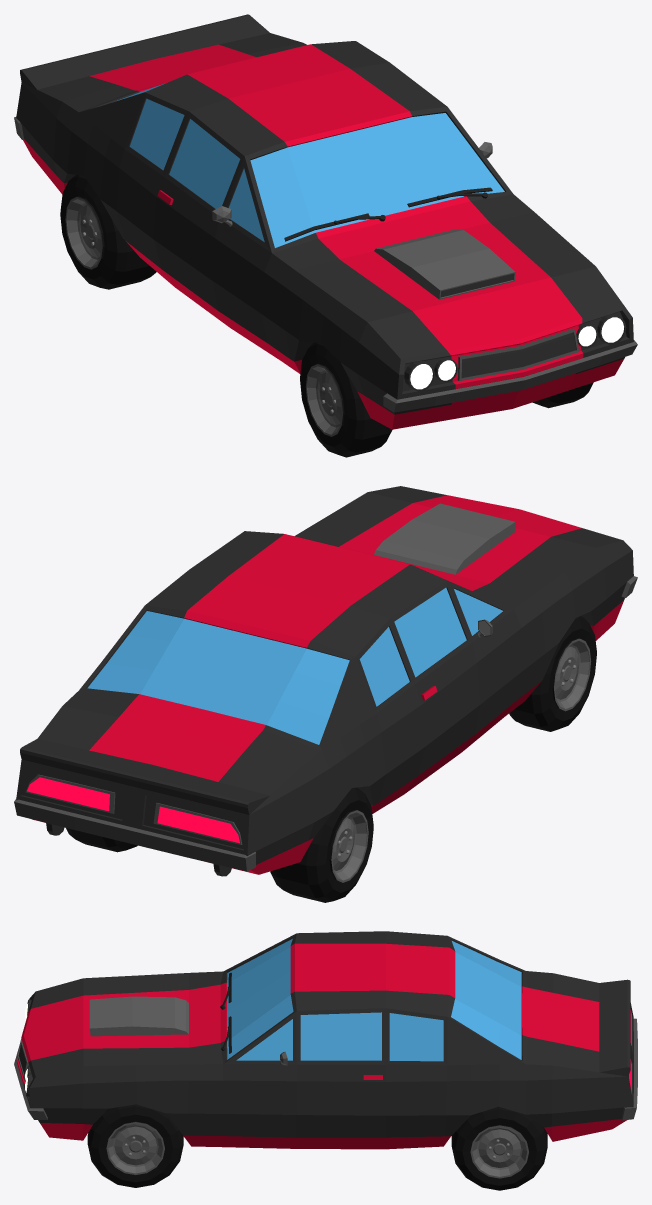
The model's file is car.glb.
3 views of the same model, one above another, from view 1: azimuth 30°, elevation 25°; view 2: azimuth 150°, elevation 25°; view 3: azimuth 270°, elevation 25° (orthographic). The views are drawn at different scales.
Parts seen in each view (by area): view 1: Body, Wheels.Front, AirIntake, Wheels.Back, Tailstock, FrontBumper, Headlights, Headlights.001; view 2: Body, Wheels.Back, Tailstock, AirIntake, Wheels.Front, RearBumper, Tailights; view 3: Body, Wheels.Front, Wheels.Back, AirIntake, Tailstock, RearBumper, FrontBumper.
Boxes of the visible parts, x1,y1,x2,y2 form: Body: [16, 33, 633, 429]; Wheels.Front: [300, 342, 593, 457]; AirIntake: [374, 229, 515, 299]; Wheels.Back: [60, 175, 156, 289]; Tailstock: [20, 14, 269, 89]; FrontBumper: [383, 340, 637, 412]; Headlights: [404, 313, 626, 391]; Headlights.001: [434, 323, 597, 382]; Body: [16, 486, 633, 874]; Wheels.Back: [66, 787, 373, 902]; Tailstock: [20, 739, 269, 814]; AirIntake: [374, 503, 515, 574]; Wheels.Front: [509, 616, 596, 731]; RearBumper: [14, 799, 255, 871]; Tailights: [27, 777, 239, 843]; Body: [16, 931, 633, 1149]; Wheels.Front: [87, 1104, 183, 1187]; Wheels.Back: [451, 1106, 547, 1190]; AirIntake: [89, 996, 188, 1036]; Tailstock: [599, 979, 630, 1076]; RearBumper: [621, 1018, 637, 1120]; FrontBumper: [14, 1043, 47, 1119].
Bounding box in the file's own units: 1.47 × 1.14 × 3.63.
